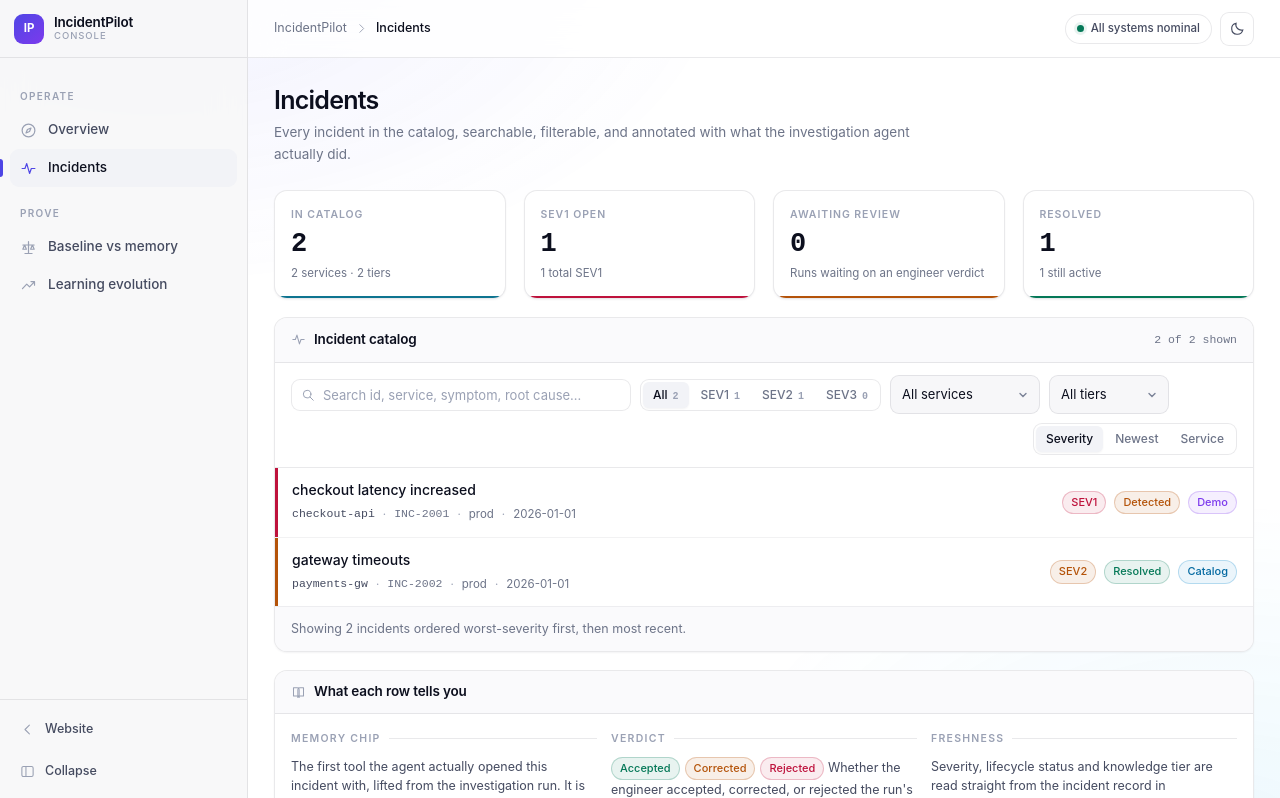
Test: Incident catalog › searches across symptoms and service names
Expected: the text "checkout latency increased" is shown, [292, 481, 476, 498]
Type "gateway" into the search field named "Search incidents" at (461, 395), box [291, 379, 631, 411]
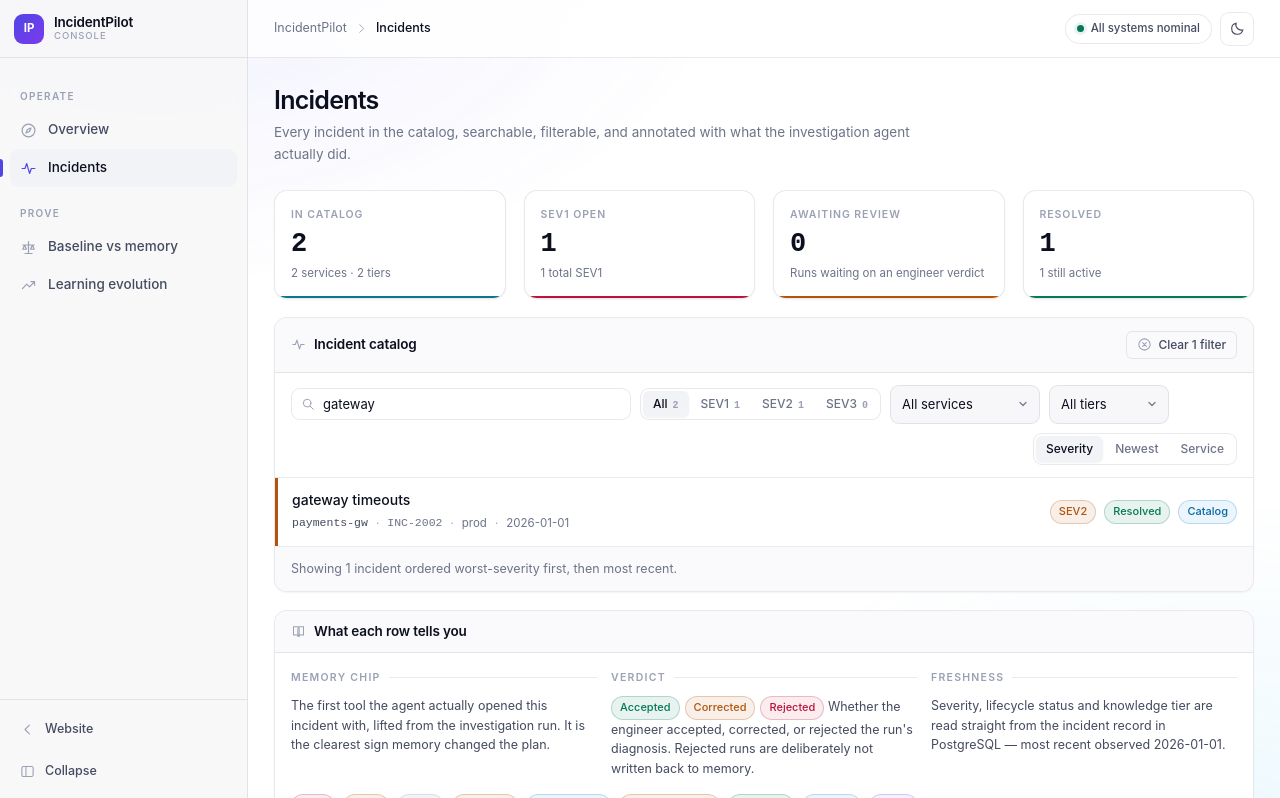
Expected: the text "gateway timeouts" is shown, [292, 490, 410, 508]
Result: the link "checkout latency increased" is gone
